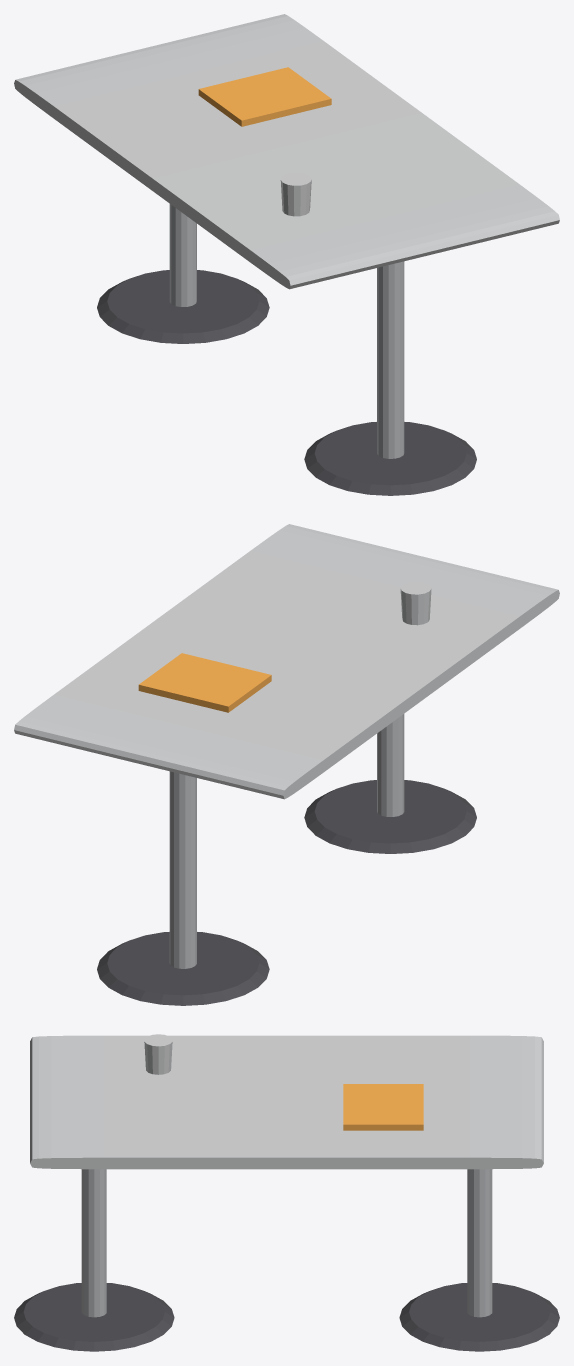
File: SM_Prop_CafeTable.fbx
3 renders of one model, top to bottom at view 1: azimuth 30°, elevation 25°; view 2: azimuth 150°, elevation 25°; view 3: azimuth 270°, elevation 25°, orthographic. The views are drawn at different scales.
Visible parts, largest first — view 1: SM_Prop_CafeTable; view 2: SM_Prop_CafeTable; view 3: SM_Prop_CafeTable.
Part boxes in pixels (x1,y1,x2,y2): SM_Prop_CafeTable: (14, 14, 559, 495); SM_Prop_CafeTable: (14, 524, 559, 1005); SM_Prop_CafeTable: (14, 1034, 559, 1351).
Size of the model in its own units: 1.7 by 0.9 by 0.86.
